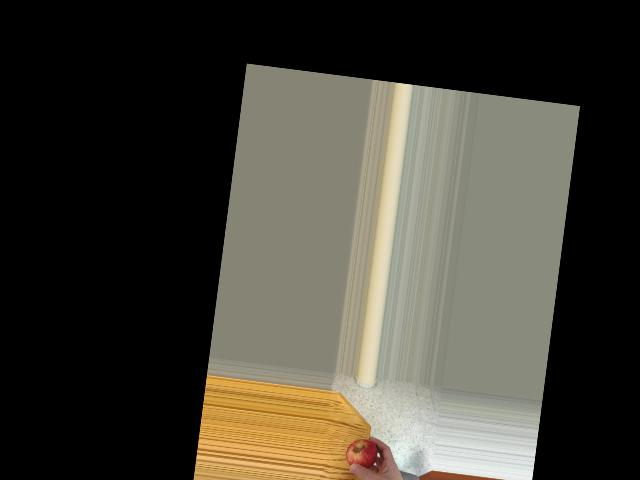apple: (343, 436, 379, 474)
